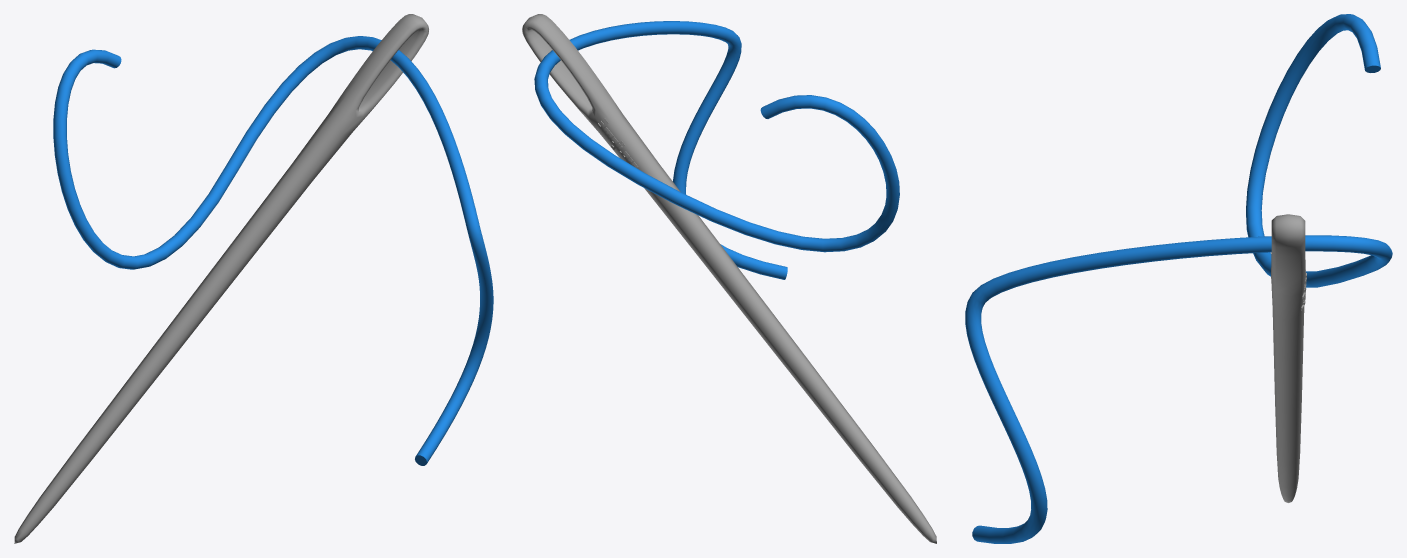
File: sewing_needle.fbx
3 views of the same model, side by side, from view 1: azimuth 30°, elevation 25°; view 2: azimuth 150°, elevation 25°; view 3: azimuth 270°, elevation 25° (orthographic). The views are drawn at different scales.
Parts seen in each view (by area): view 1: Cube.909; view 2: Cube.909; view 3: Cube.909.
Boxes of the visible parts, <box> form: Cube.909: <box>14,14,493,543</box>; Cube.909: <box>522,14,936,543</box>; Cube.909: <box>965,14,1392,543</box>.
Size of the model in its own units: 210 by 218 by 156.
Materials: 1 (1 with a texture image).
